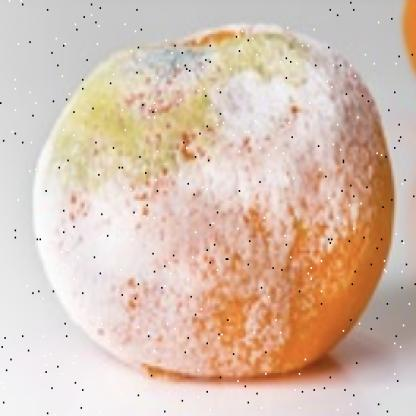rotten: (37, 25, 396, 381)
